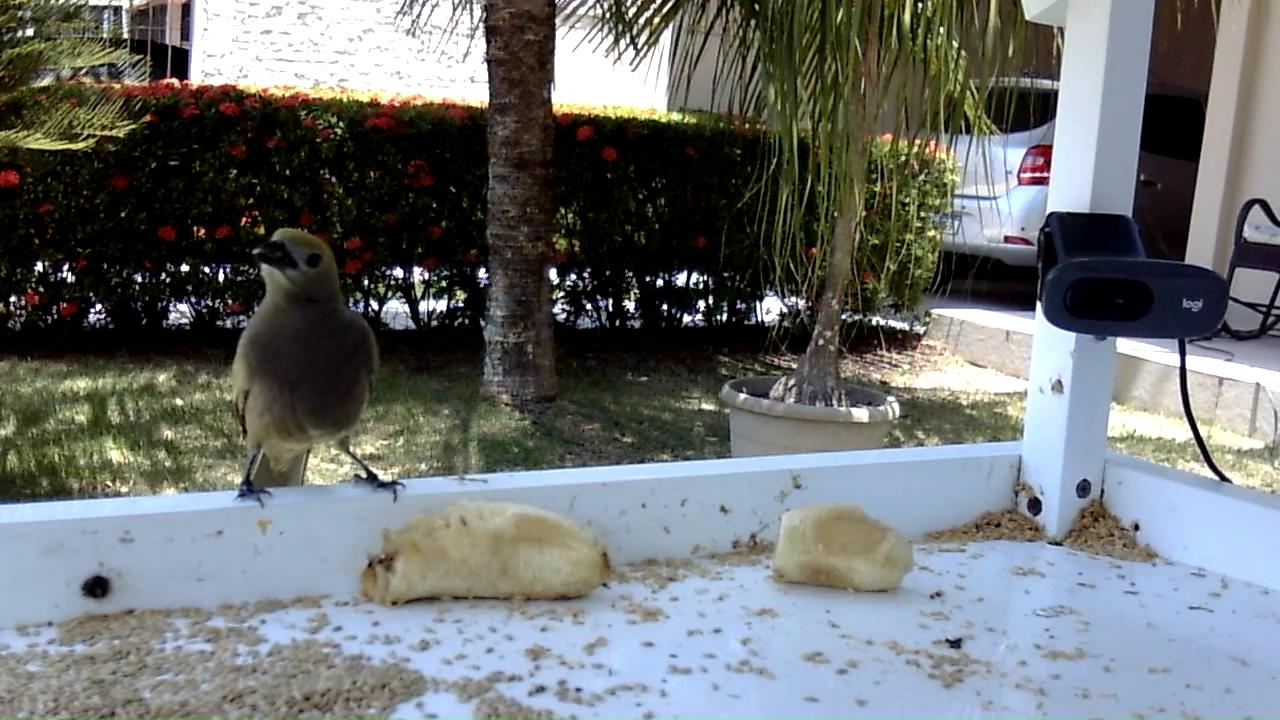sanhaco_do_coqueiro: (231, 229, 409, 511)
